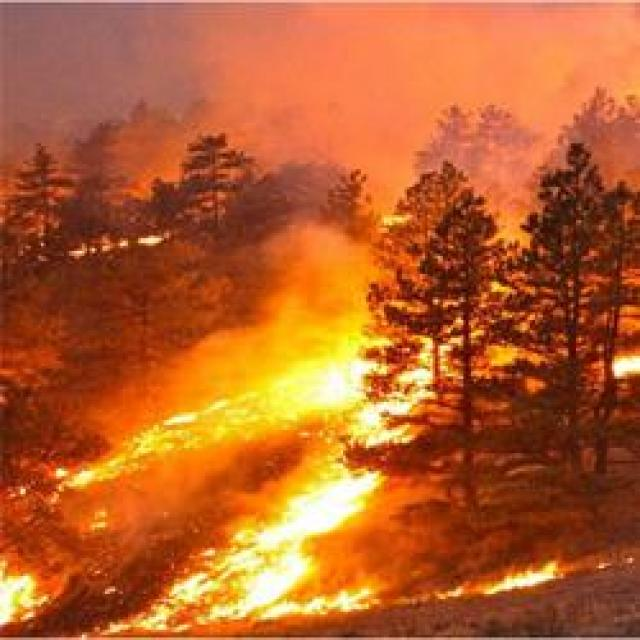fire: (235, 523, 309, 623), (282, 468, 382, 534), (291, 364, 361, 407)
smoke: (432, 5, 636, 166), (270, 215, 368, 351), (170, 326, 275, 379)
